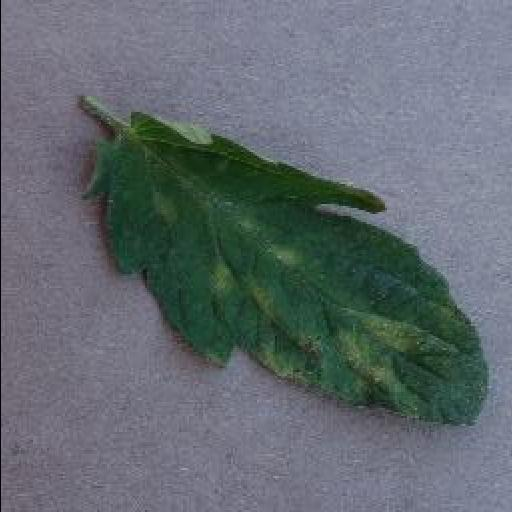disease_tomato: (77, 114, 491, 426)
